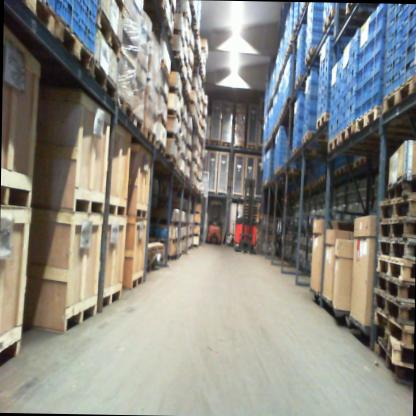forklift: (233, 178, 260, 255), (206, 200, 224, 244)
pallet: (53, 13, 96, 74), (373, 289, 414, 332), (373, 311, 414, 350), (381, 73, 416, 115), (375, 270, 415, 306), (96, 4, 121, 59), (18, 0, 55, 36), (375, 236, 416, 266), (64, 297, 97, 333), (384, 330, 414, 369), (376, 256, 415, 285), (321, 8, 364, 33), (91, 59, 117, 100), (0, 175, 32, 207), (377, 198, 416, 223), (387, 171, 416, 202), (0, 329, 22, 369), (378, 219, 415, 240), (354, 104, 381, 132), (72, 195, 105, 216), (97, 281, 122, 308), (113, 94, 135, 124), (290, 145, 325, 158), (301, 130, 328, 146), (339, 120, 356, 144), (104, 199, 126, 216), (142, 125, 157, 147), (162, 18, 173, 44), (129, 271, 144, 290), (315, 110, 329, 130), (304, 45, 317, 66), (327, 133, 340, 153), (132, 115, 144, 135), (166, 130, 180, 147), (167, 107, 181, 123), (274, 165, 298, 174), (168, 85, 181, 101), (153, 236, 178, 244), (172, 49, 183, 67), (133, 206, 148, 219), (155, 218, 179, 226), (352, 155, 366, 168), (333, 163, 347, 176), (156, 139, 166, 156), (157, 113, 167, 130), (293, 73, 303, 89), (165, 153, 176, 167), (160, 88, 168, 107), (345, 2, 357, 14), (298, 5, 305, 21), (318, 171, 326, 183), (167, 253, 177, 262), (246, 143, 257, 150), (209, 140, 220, 146), (185, 143, 192, 152), (220, 142, 231, 147), (233, 143, 244, 148), (184, 175, 190, 184), (185, 159, 191, 168)
small_load_carrier: (55, 0, 79, 34), (367, 3, 386, 45), (76, 15, 96, 53), (77, 0, 97, 35), (367, 30, 386, 63), (365, 75, 383, 103), (400, 23, 416, 53), (367, 54, 384, 82), (399, 40, 415, 69), (388, 8, 403, 37), (402, 5, 416, 36), (399, 58, 415, 85), (384, 56, 399, 83), (355, 61, 368, 91), (387, 24, 401, 51), (357, 42, 369, 73), (383, 73, 399, 96), (348, 27, 360, 57), (356, 80, 367, 111), (386, 41, 400, 65), (346, 66, 356, 94), (346, 101, 356, 127), (346, 83, 356, 109), (347, 50, 357, 75), (389, 3, 403, 19), (403, 3, 416, 20), (83, 0, 97, 15), (340, 76, 348, 99), (339, 108, 346, 132), (328, 116, 335, 136), (340, 94, 346, 115), (329, 88, 336, 106), (334, 113, 340, 131), (334, 97, 340, 114), (46, 0, 56, 10), (335, 82, 341, 98), (329, 102, 334, 120)
